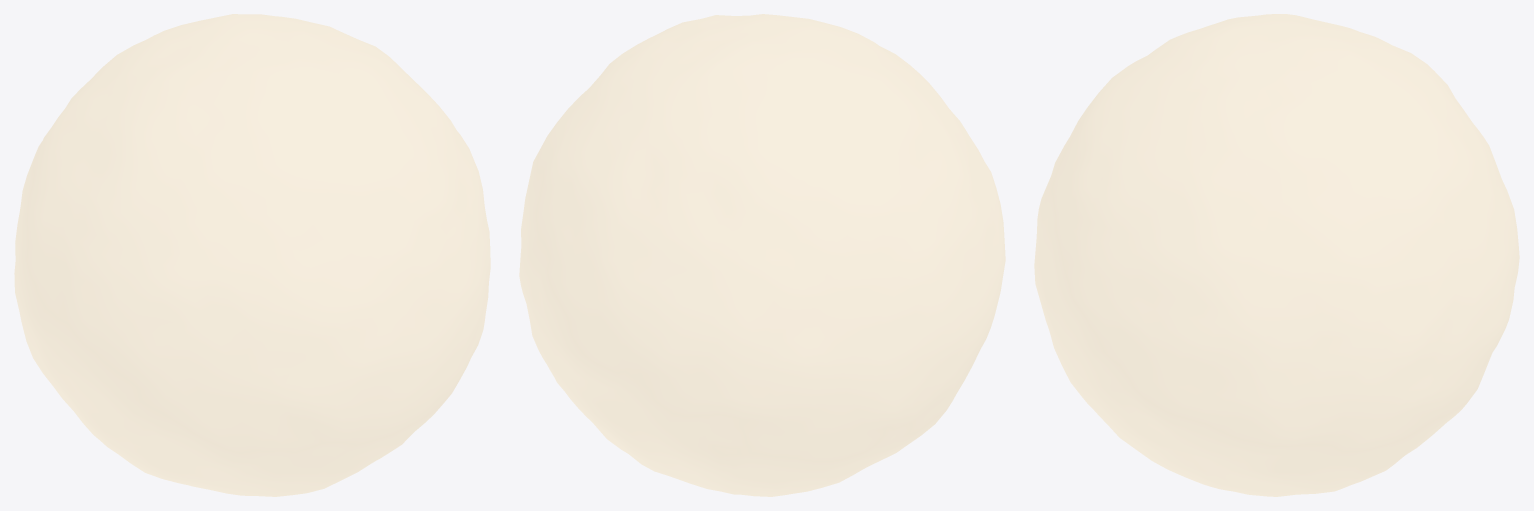
The model's file is star.glb.
The picture shows the model from 3 angles, left to right: view 1: azimuth 30°, elevation 25°; view 2: azimuth 150°, elevation 25°; view 3: azimuth 270°, elevation 25°; orthographic projection.
Visible parts, largest first — view 1: Star; view 2: Star; view 3: Star.
Boxes of the visible parts, x1=… form: Star: x1=14, y1=14, x2=490, y2=496; Star: x1=519, y1=14, x2=1005, y2=496; Star: x1=1034, y1=14, x2=1519, y2=496.
Bounding box in the file's own units: 2.01 × 2.01 × 2.02.
